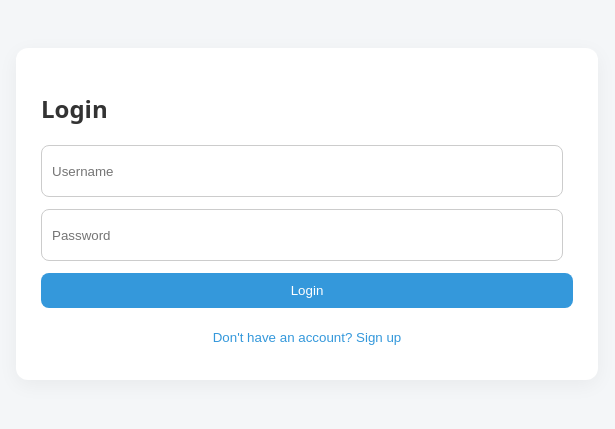
Test: AuthForm Component › switches to signup mode
Step 1. Click the button "Don't have an account? Sign up" → coordinates (307, 338), box x1=41 y1=320 x2=573 y2=356
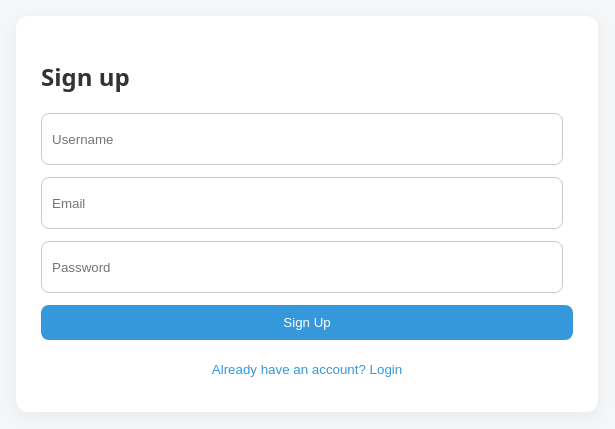
Result: the field with placeholder "Email" is shown at x1=41 y1=178 x2=563 y2=230
Result: the button "Sign Up" is shown at x1=41 y1=306 x2=573 y2=340
